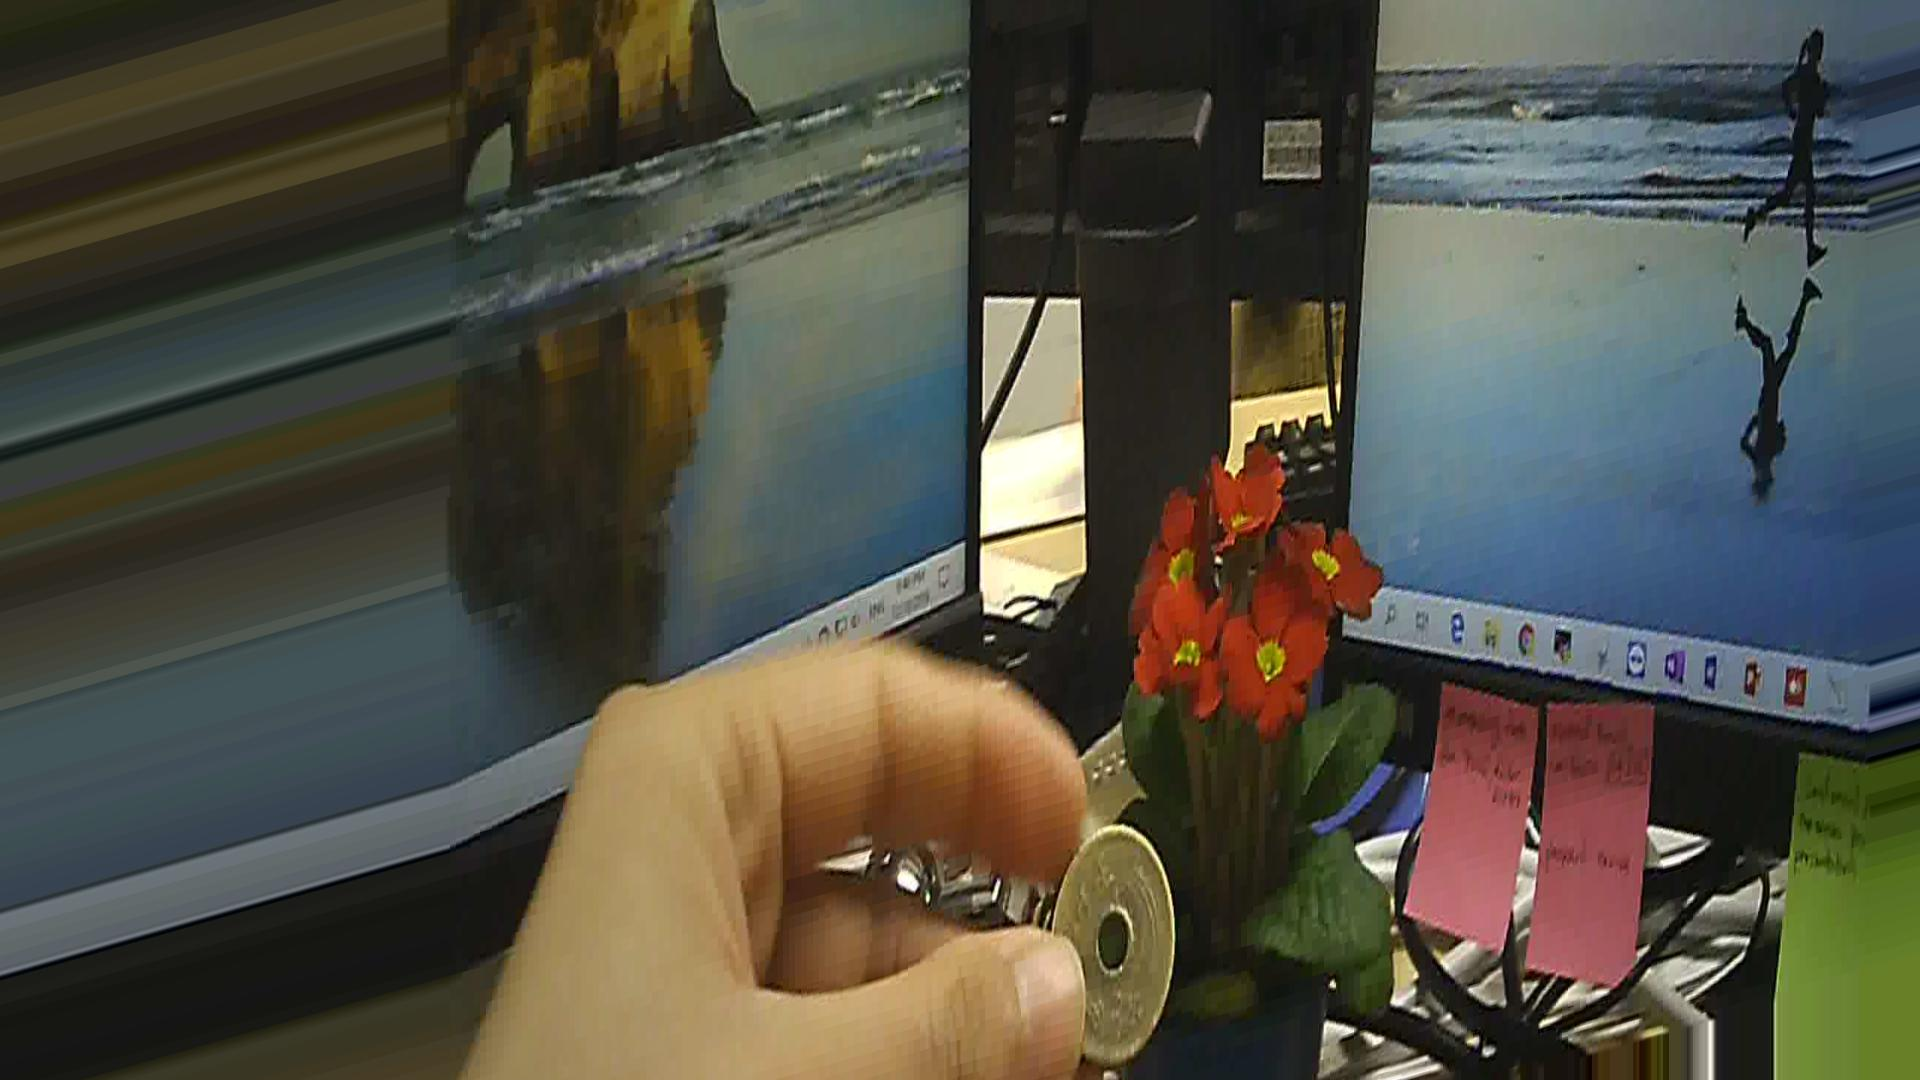5 Yen: (1035, 819, 1170, 1058)
